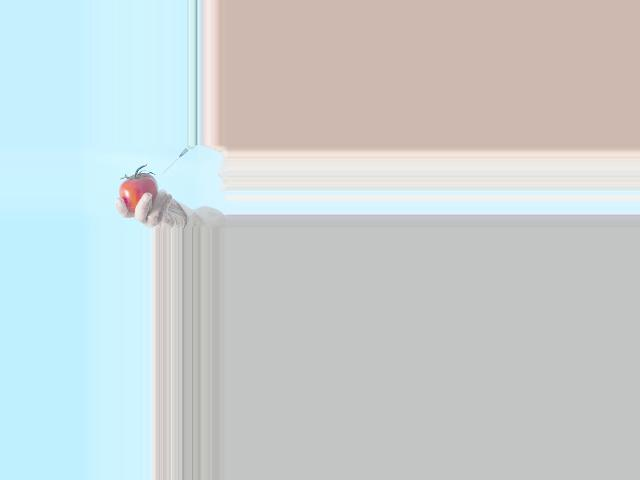tomato: (118, 173, 157, 212)
